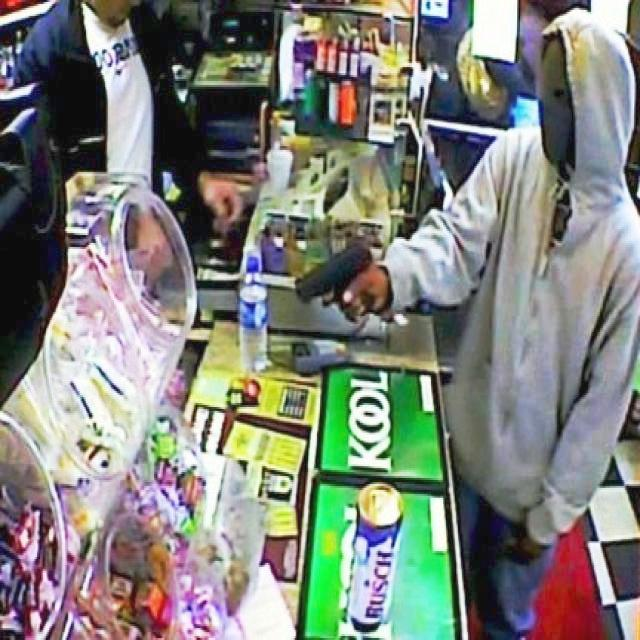Gun: (283, 221, 401, 320)
